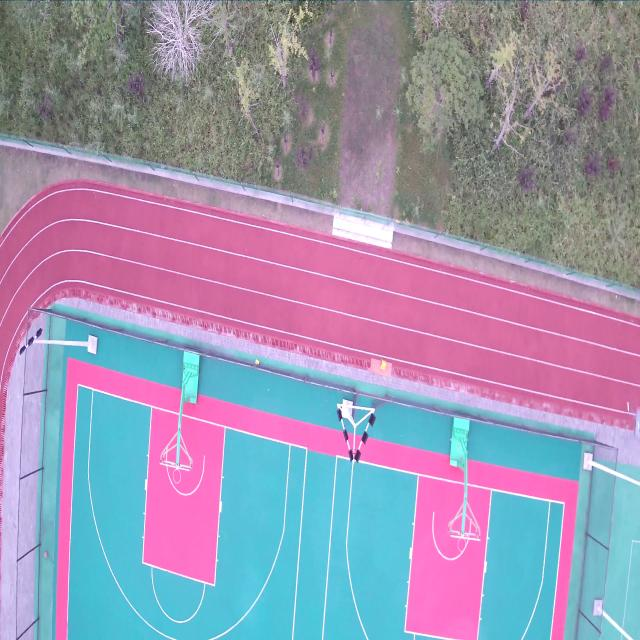UAV: (625, 399, 640, 453)
